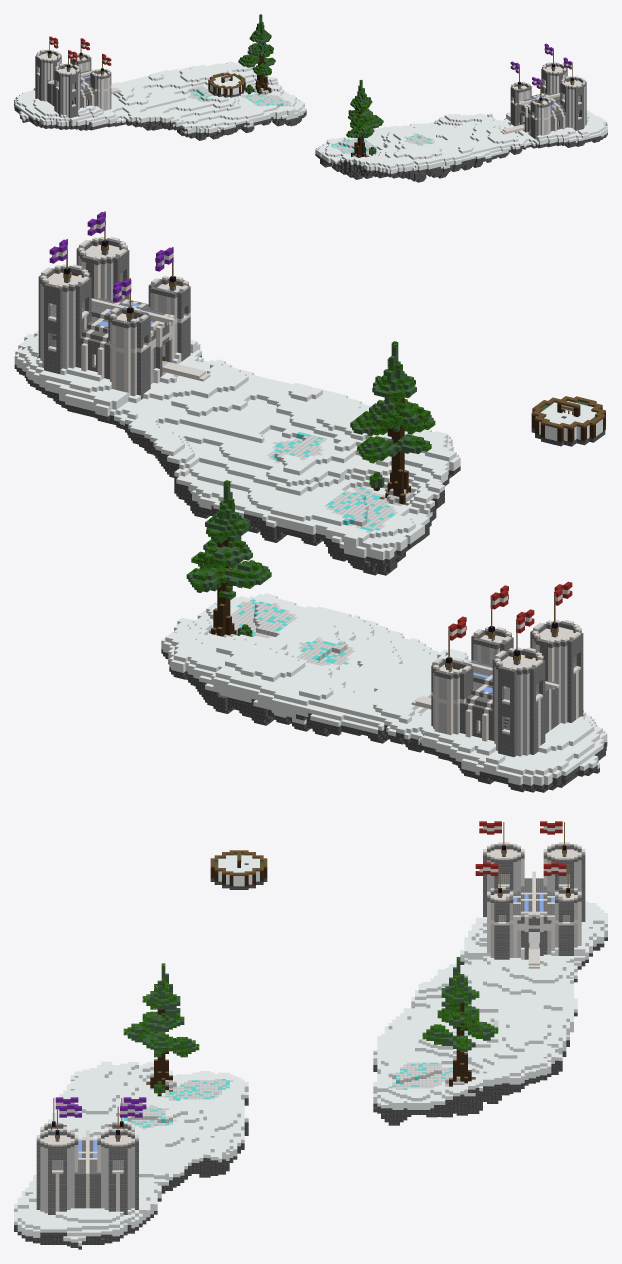
File: minecraft.obj
The picture shows the model from 3 angles, top to bottom: view 1: azimuth 30°, elevation 25°; view 2: azimuth 150°, elevation 25°; view 3: azimuth 270°, elevation 25°; orthographic projection. The views are drawn at different scales.
Size of the model in its own units: 211 by 51.5 by 157.
